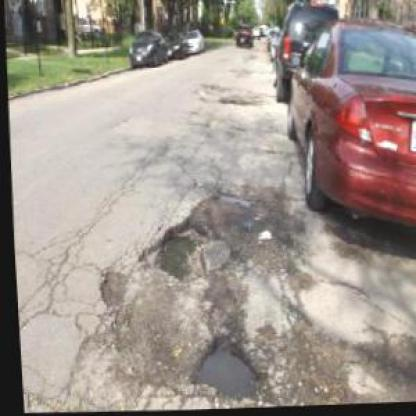pothole: (132, 214, 214, 287), (182, 334, 260, 402), (93, 268, 126, 306), (218, 94, 249, 107), (251, 227, 270, 244)
